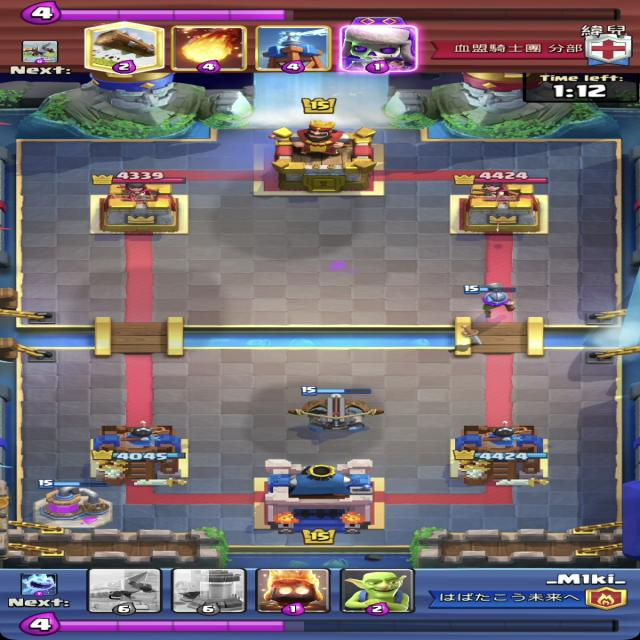Player-ElixirPump: (31, 479, 115, 530)
Player-Musketeer: (462, 282, 514, 319)
Player-XBow: (287, 386, 387, 432)
